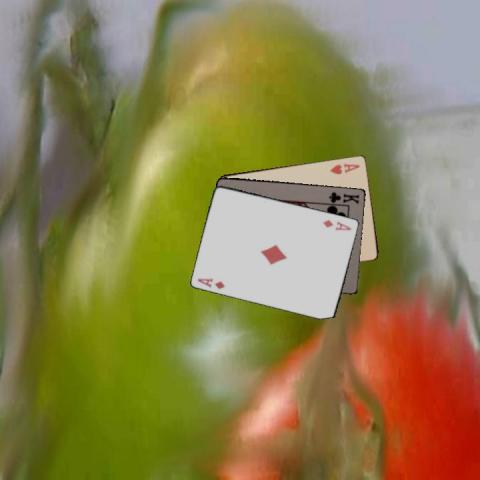Ad: (194, 275, 226, 290), (320, 217, 353, 231)
Ah: (328, 160, 361, 175)
Kc: (326, 188, 361, 204)
